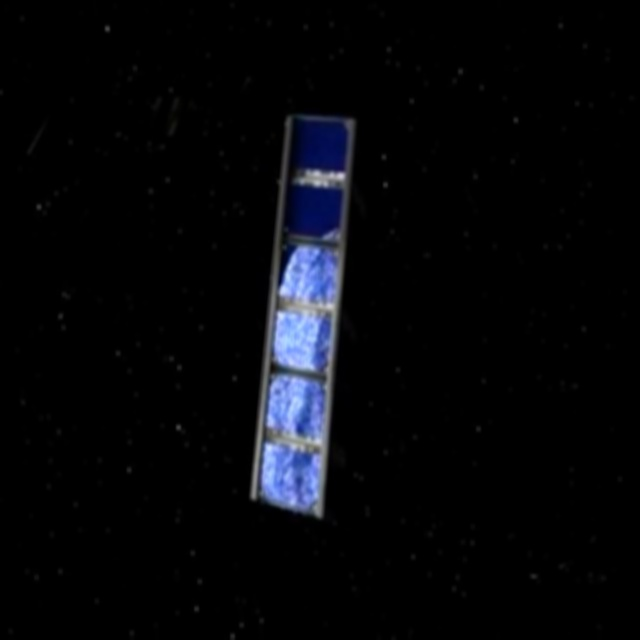large_debris: (242, 98, 373, 543)
